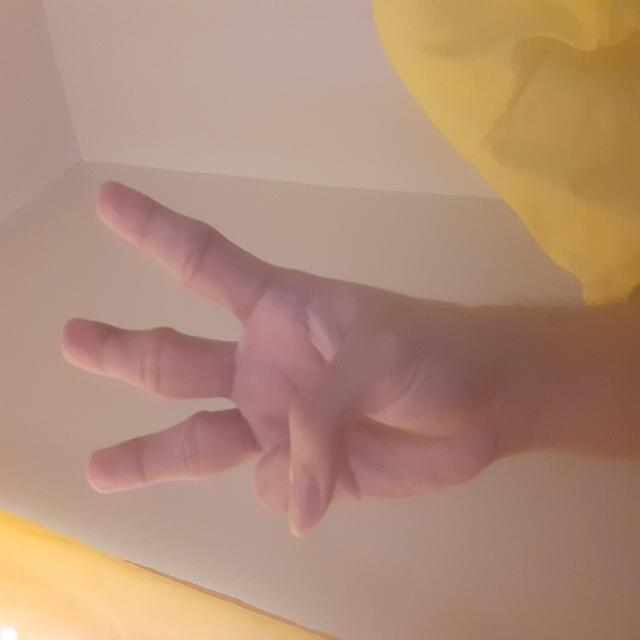W: (101, 59, 460, 473)
